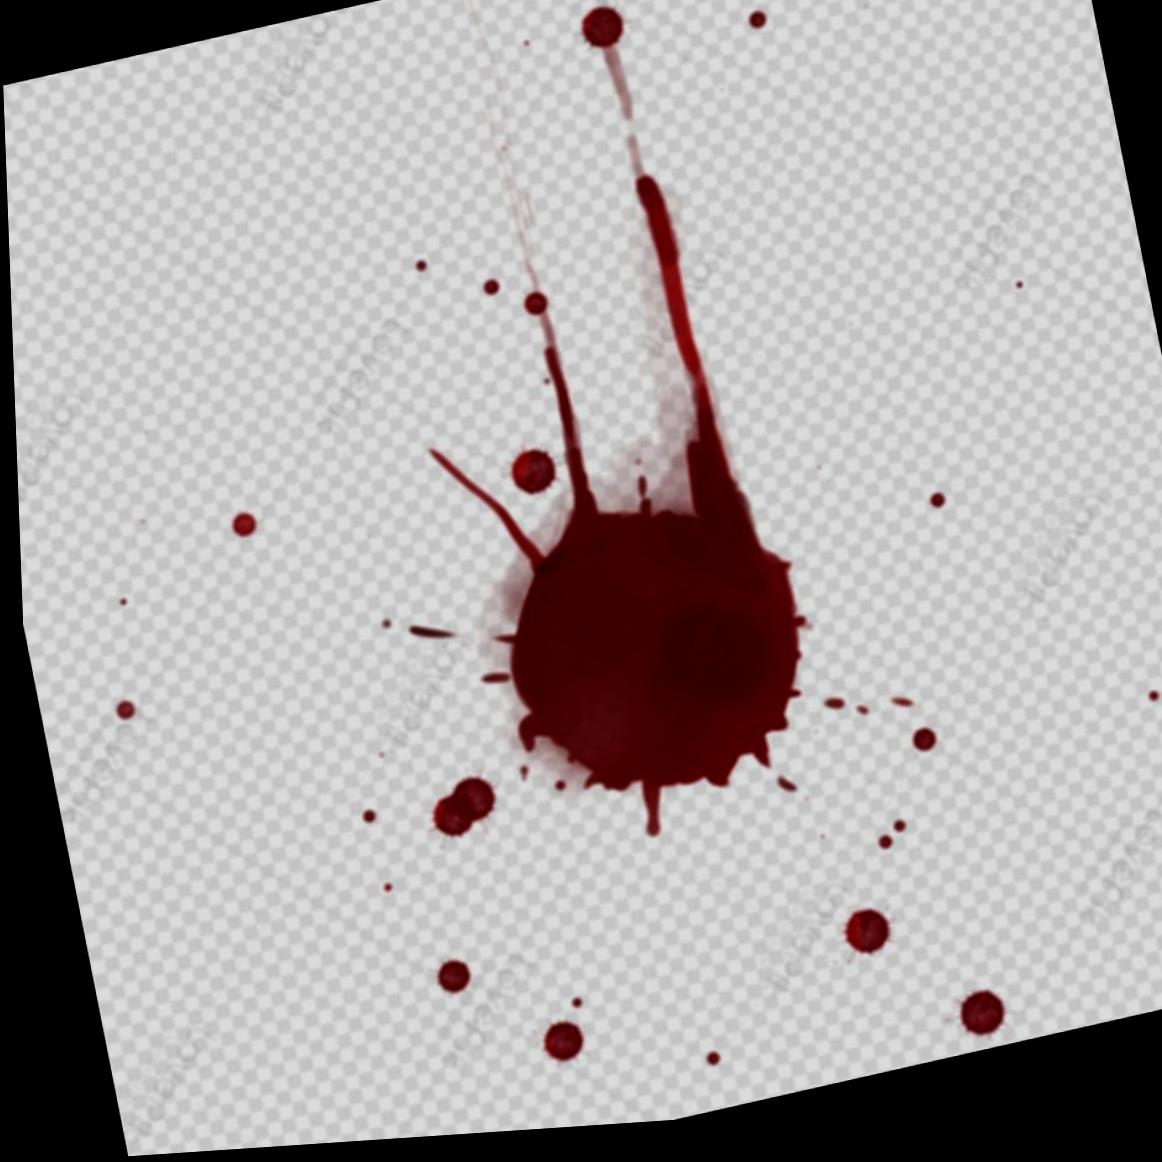Fire: (425, 184, 808, 846), (425, 782, 492, 844), (950, 1003, 998, 1051), (835, 919, 884, 966), (507, 455, 552, 502), (581, 14, 626, 56), (534, 1029, 575, 1070), (428, 966, 463, 1001), (906, 741, 930, 764)
